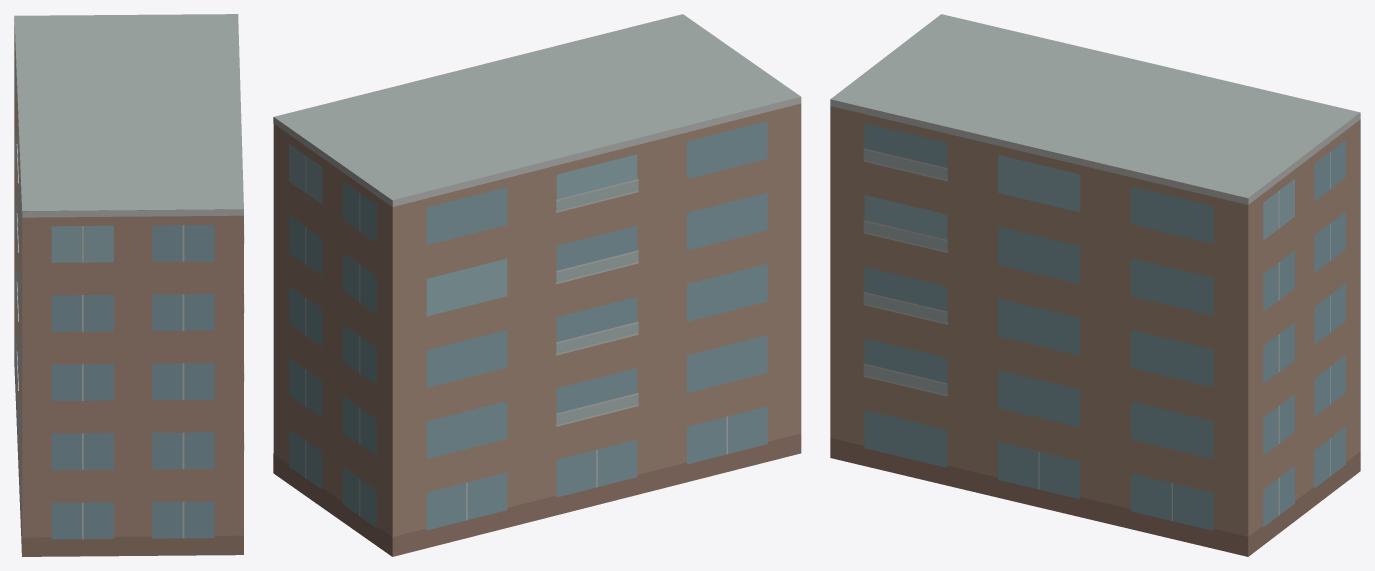
File: survey-upis-32877624.glb
3 renders of one model, left to right at view 1: azimuth 30°, elevation 25°; view 2: azimuth 150°, elevation 25°; view 3: azimuth 270°, elevation 25°, orthographic. The views are drawn at different scales.
Parts seen in each view (by area): view 1: survey-upis-32877624.tmp; view 2: survey-upis-32877624.tmp; view 3: survey-upis-32877624.tmp.
Part boxes in pixels (x1,y1,x2,y2): survey-upis-32877624.tmp: (14,14,244,556); survey-upis-32877624.tmp: (273,14,801,556); survey-upis-32877624.tmp: (830,14,1360,556).
Size of the model in its own units: 14.33 by 13 by 17.43.
